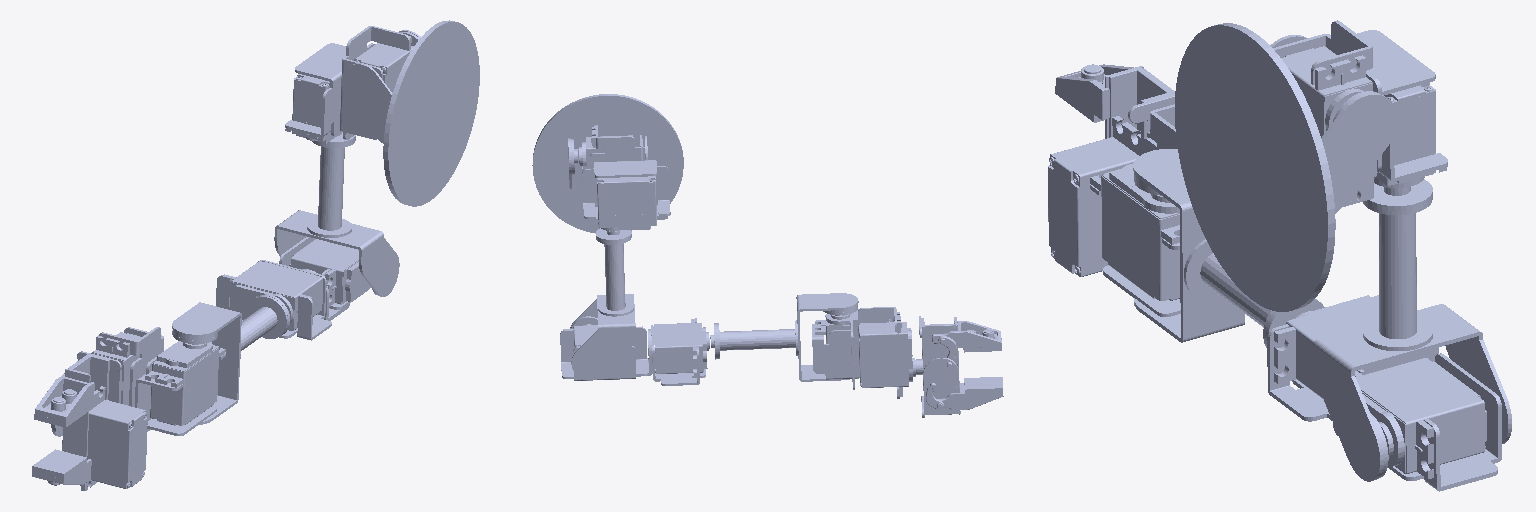
The robot description file, URDF, robot "boomerang":
<?xml version="1.0" ?>
<robot name="boomerang">
	<link name="mainbody-21">
		<visual>
			<geometry>
				<mesh filename="package://boomerang/urdf/mainbody.dae"/>
			</geometry>
			<origin rpy="0 0 0" xyz="0.894449 -0.00816 -0.052198"/>
			<material name="mainbody-21_color">
				<color rgba="0.792157 0.819608 0.933333 1"/>
			</material>
		</visual>
		<collision>
			<geometry>
				<mesh filename="package://boomerang/urdf/mainbody.dae"/>
			</geometry>
			<origin rpy="0 0 0" xyz="0.894449 -0.00816 -0.052198"/>
		</collision>
		<inertial>
			<mass value="19.9939"/>
			<inertia ixx="0" ixy="0" ixz="0" iyy="0" iyz="0" izz="0"/>
			<origin rpy="0 0 0" xyz="0.893976 -0.000239 0.221142"/>
		</inertial>
	</link>
	<link name="shoulderblade-11">
		<visual>
			<geometry>
				<mesh filename="package://boomerang/urdf/shoulderblade.dae"/>
			</geometry>
			<origin rpy="0 0 0" xyz="0.001728 -0.000067 -0.000827"/>
			<material name="shoulderblade-11_color">
				<color rgba="0.792157 0.819608 0.933333 1"/>
			</material>
		</visual>
		<collision>
			<geometry>
				<mesh filename="package://boomerang/urdf/shoulderblade.dae"/>
			</geometry>
			<origin rpy="0 0 0" xyz="0.001728 -0.000067 -0.000827"/>
		</collision>
		<inertial>
			<mass value="0.176614"/>
			<inertia ixx="0" ixy="0" ixz="0" iyy="0" iyz="0" izz="0"/>
			<origin rpy="0 0 0" xyz="0.000347 -0.000728 0.000418"/>
		</inertial>
	</link>
	<joint name="mainbody-2--shoulderblade-11" type="revolute">
		<parent link="mainbody-21"/>
		<child link="shoulderblade-11"/>
		<origin rpy="0.020254 0.008678 0.54438" xyz="0.849713 0.146171 0.382741"/>
		<axis xyz="0 1 0"/>
 		<limit effort="10" lower="-1.5" upper="1.5" velocity="3"/>
	</joint>
	<link name="shoulderjoint-11">
		<visual>
			<geometry>
				<mesh filename="package://boomerang/urdf/shoulderjoint.dae"/>
			</geometry>
			<origin rpy="0 0 0" xyz="-0.032502 0.014752 -0.014338"/>
			<material name="shoulderjoint-11_color">
				<color rgba="0.792157 0.819608 0.933333 1"/>
			</material>
		</visual>
		<collision>
			<geometry>
				<mesh filename="package://boomerang/urdf/shoulderjoint.dae"/>
			</geometry>
			<origin rpy="0 0 0" xyz="-0.032502 0.014752 -0.014338"/>
		</collision>
		<inertial>
			<mass value="0.046137"/>
			<inertia ixx="0" ixy="0" ixz="0" iyy="0" iyz="0" izz="0"/>
			<origin rpy="0 0 0" xyz="-0.024929 0.014401 -0.01623"/>
		</inertial>
	</link>
	<joint name="shoulderblade-1--shoulderjoint-11" type="revolute">
		<parent link="shoulderblade-11"/>
		<child link="shoulderjoint-11"/>
		<origin rpy="0.026762 0.022468 0.020203" xyz="0.024952 0.026928 0.018273"/>
		<axis xyz="1 0 0"/>
 		<limit effort="10" lower="-1.5" upper="1.5" velocity="3"/>
	</joint>
	<link name="upperarm-11">
		<visual>
			<geometry>
				<mesh filename="package://boomerang/urdf/upperarm.dae"/>
			</geometry>
			<origin rpy="0 0 0" xyz="-0.013188 0.006507 -0.050394"/>
			<material name="upperarm-11_color">
				<color rgba="0.792157 0.819608 0.933333 1"/>
			</material>
		</visual>
		<collision>
			<geometry>
				<mesh filename="package://boomerang/urdf/upperarm.dae"/>
			</geometry>
			<origin rpy="0 0 0" xyz="-0.013188 0.006507 -0.050394"/>
		</collision>
		<inertial>
			<mass value="0.014856"/>
			<inertia ixx="0" ixy="0" ixz="0" iyy="0" iyz="0" izz="0"/>
			<origin rpy="0 0 0" xyz="0.004072 0.005053 -0.043501"/>
		</inertial>
	</link>
	<joint name="shoulderjoint-1--upperarm-11" type="revolute">
		<parent link="shoulderjoint-11"/>
		<child link="upperarm-11"/>
		<origin rpy="0.002846 -0.020393 -1.591038" xyz="-0.025616 0.028053 -0.04603"/>
		<axis xyz="0 0 1"/>
 		<limit effort="10" lower="-1.5" upper="1.5" velocity="3"/>
	</joint>
	<link name="elbow-11">
		<visual>
			<geometry>
				<mesh filename="package://boomerang/urdf/elbow.dae"/>
			</geometry>
			<origin rpy="0 0 0" xyz="-0.006286 0.02685 -0.0363"/>
			<material name="elbow-11_color">
				<color rgba="0.792157 0.819608 0.933333 1"/>
			</material>
		</visual>
		<collision>
			<geometry>
				<mesh filename="package://boomerang/urdf/elbow.dae"/>
			</geometry>
			<origin rpy="0 0 0" xyz="-0.006286 0.02685 -0.0363"/>
		</collision>
		<inertial>
			<mass value="0.048882"/>
			<inertia ixx="0" ixy="0" ixz="0" iyy="0" iyz="0" izz="0"/>
			<origin rpy="0 0 0" xyz="0.00157 0.023876 -0.035902"/>
		</inertial>
	</link>
	<joint name="upperarm-1--elbow-11" type="revolute">
		<parent link="upperarm-11"/>
		<child link="elbow-11"/>
		<origin rpy="-2.665825 1.565338 -1.101191" xyz="0.02467 0.018579 -0.080261"/>
		<axis xyz="0 1 0"/>
 		<limit effort="10" lower="-1.5" upper="1.5" velocity="3"/>
	</joint>
	<link name="forearm-11">
		<visual>
			<geometry>
				<mesh filename="package://boomerang/urdf/forearm.dae"/>
			</geometry>
			<origin rpy="0 0 0" xyz="0.009782 -0.00247 -0.049233"/>
			<material name="forearm-11_color">
				<color rgba="0.792157 0.819608 0.933333 1"/>
			</material>
		</visual>
		<collision>
			<geometry>
				<mesh filename="package://boomerang/urdf/forearm.dae"/>
			</geometry>
			<origin rpy="0 0 0" xyz="0.009782 -0.00247 -0.049233"/>
		</collision>
		<inertial>
			<mass value="0.014412"/>
			<inertia ixx="0" ixy="0" ixz="0" iyy="0" iyz="0" izz="0"/>
			<origin rpy="0 0 0" xyz="0.000455 -0.004207 -0.043057"/>
		</inertial>
	</link>
	<joint name="elbow-1--forearm-11" type="revolute">
		<parent link="elbow-11"/>
		<child link="forearm-11"/>
		<origin rpy="0.004999 0.003767 -1.568983" xyz="-0.000748 0.023368 -0.085032"/>
		<axis xyz="0 0 1"/>
 		<limit effort="10" lower="-1.5" upper="1.5" velocity="3"/>
	</joint>
	<link name="wrist-11">
		<visual>
			<geometry>
				<mesh filename="package://boomerang/urdf/wrist.dae"/>
			</geometry>
			<origin rpy="0 0 0" xyz="0.036091 0.01389 -0.016099"/>
			<material name="wrist-11_color">
				<color rgba="0.792157 0.819608 0.933333 1"/>
			</material>
		</visual>
		<collision>
			<geometry>
				<mesh filename="package://boomerang/urdf/wrist.dae"/>
			</geometry>
			<origin rpy="0 0 0" xyz="0.036091 0.01389 -0.016099"/>
		</collision>
		<inertial>
			<mass value="0.043581"/>
			<inertia ixx="0" ixy="0" ixz="0" iyy="0" iyz="0" izz="0"/>
			<origin rpy="0 0 0" xyz="0.025362 0.013199 -0.018104"/>
		</inertial>
	</link>
	<joint name="forearm-1--wrist-11" type="revolute">
		<parent link="forearm-11"/>
		<child link="wrist-11"/>
		<origin rpy="-0.005647 0.005634 1.57425" xyz="0.000857 -0.024708 -0.081813"/>
		<axis xyz="1 0 0"/>
 		<limit effort="10" lower="-1.5" upper="1.5" velocity="3"/>
	</joint>
	<link name="grasp-11">
		<visual>
			<geometry>
				<mesh filename="package://boomerang/urdf/grasp.dae"/>
			</geometry>
			<origin rpy="0 0 0" xyz="0.005019 0.016043 0.002636"/>
			<material name="grasp-11_color">
				<color rgba="0.792157 0.819608 0.933333 1"/>
			</material>
		</visual>
		<collision>
			<geometry>
				<mesh filename="package://boomerang/urdf/grasp.dae"/>
			</geometry>
			<origin rpy="0 0 0" xyz="0.005019 0.016043 0.002636"/>
		</collision>
		<inertial>
			<mass value="0.03571"/>
			<inertia ixx="0" ixy="0" ixz="0" iyy="0" iyz="0" izz="0"/>
			<origin rpy="0 0 0" xyz="0.001644 0.022843 0.002207"/>
		</inertial>
	</link>
	<joint name="wrist-1--grasp-11" type="revolute">
		<parent link="wrist-11"/>
		<child link="grasp-11"/>
		<origin rpy="-1.562208 -0.012195 -1.57479" xyz="0.036308 0.028066 -0.048196"/>
		<axis xyz="0 1 0"/>
 		<limit effort="10" lower="-1.5" upper="1.5" velocity="3"/>
	</joint>
</robot>

--- What the picture shows (computed from the rendered views, not written in the file) ---
The picture shows the robot from 3 angles, left to right: view 1: azimuth 30°, elevation 25°; view 2: azimuth 150°, elevation 25°; view 3: azimuth 270°, elevation 25°; orthographic projection.
Robot: boomerang — 8 links, 7 joints (7 revolute); root link mainbody-21; default pose: all joints at 0.
Links seen in each view (by area): view 1: shoulderblade-11, grasp-11, wrist-11, elbow-11, shoulderjoint-11, upperarm-11, forearm-11; view 2: shoulderblade-11, shoulderjoint-11, wrist-11, elbow-11, grasp-11, upperarm-11, forearm-11; view 3: shoulderblade-11, elbow-11, upperarm-11, shoulderjoint-11, grasp-11, wrist-11, forearm-11.
Link boxes in pixels (bbox=[...]): shoulderblade-11: bbox=[341, 20, 479, 206]; grasp-11: bbox=[32, 351, 147, 490]; wrist-11: bbox=[91, 327, 225, 435]; elbow-11: bbox=[216, 237, 376, 340]; shoulderjoint-11: bbox=[285, 26, 419, 145]; upperarm-11: bbox=[274, 133, 399, 296]; forearm-11: bbox=[172, 295, 289, 424]; shoulderblade-11: bbox=[532, 94, 683, 232]; shoulderjoint-11: bbox=[570, 125, 670, 242]; wrist-11: bbox=[812, 307, 915, 398]; elbow-11: bbox=[560, 316, 717, 385]; grasp-11: bbox=[916, 316, 1003, 417]; upperarm-11: bbox=[570, 231, 635, 380]; forearm-11: bbox=[710, 293, 858, 381]; shoulderblade-11: bbox=[1175, 23, 1397, 311]; elbow-11: bbox=[1265, 295, 1501, 491]; upperarm-11: bbox=[1313, 187, 1511, 481]; shoulderjoint-11: bbox=[1273, 20, 1447, 210]; grasp-11: bbox=[1048, 64, 1174, 276]; wrist-11: bbox=[1090, 104, 1180, 316]; forearm-11: bbox=[1133, 149, 1316, 347].
Bounding box of the posed robot: 0.3158 × 0.157 × 0.1951 m (x, y, z).
Meshes: 8 distinct files referenced, 7 mesh visuals loaded (7 Collada DAE); not drawn: 1 (reference not matched to a file when rendering).